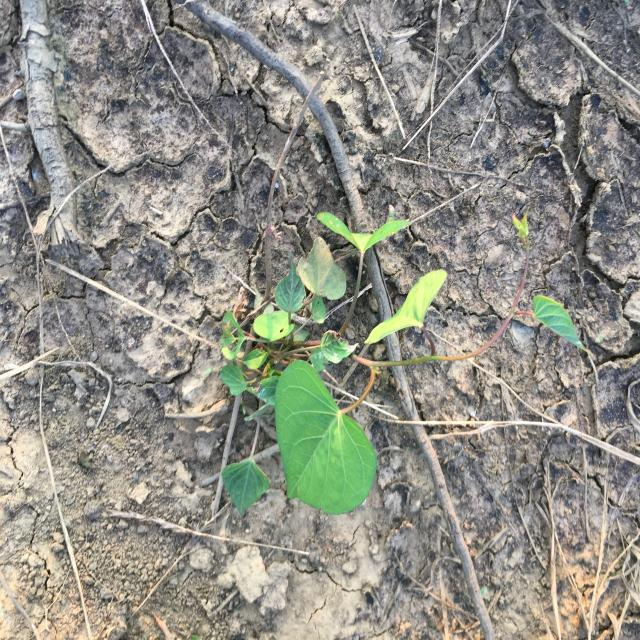MorningGlory: (220, 212, 586, 518)
